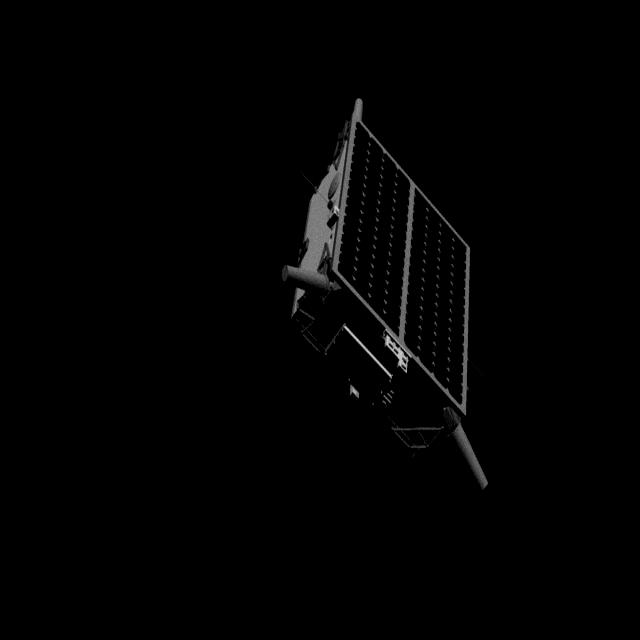medium_debris: (278, 100, 498, 492)
